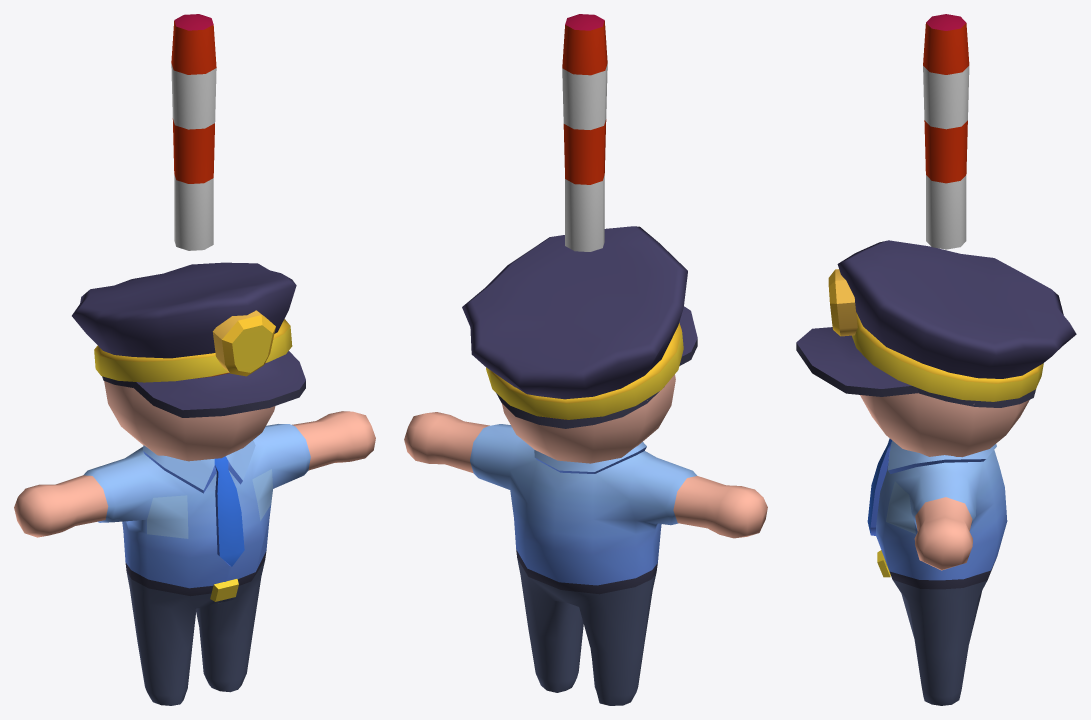
Rendered from Police.fbx.
3 renders of one model, left to right at view 1: azimuth 30°, elevation 25°; view 2: azimuth 150°, elevation 25°; view 3: azimuth 270°, elevation 25°, orthographic.
Parts seen in each view (by area): view 1: Police; view 2: Police; view 3: Police.
Part boxes in pixels (bbox=[...]): Police: bbox=[14, 14, 375, 705]; Police: bbox=[404, 14, 767, 705]; Police: bbox=[796, 14, 1076, 705].
Size of the model in its own units: 5.61 by 10.27 by 3.91.
Materials: 1 (1 with a texture image).
